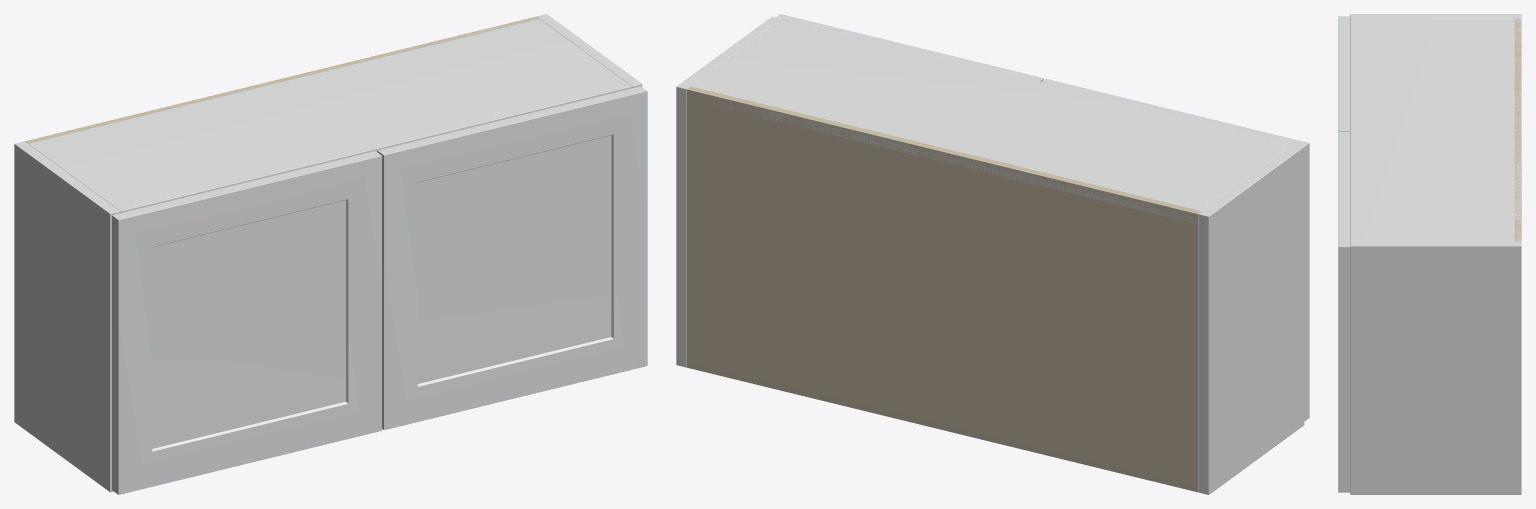
The model's file is PLY-WSS-W3618.glb.
3 views of the same model, side by side, from view 1: azimuth 30°, elevation 25°; view 2: azimuth 150°, elevation 25°; view 3: azimuth 270°, elevation 25° (orthographic). The views are drawn at different scales.
Visible parts, largest first — view 1: Shaker door, Shaker door.001, Carcass top, Carcass left, Carcass back, Carcass right; view 2: Carcass back, Carcass top, Carcass left, Carcass bottom, Carcass right, Shaker door, Shaker door.001; view 3: Carcass right, Carcass top, Shaker door.001, Carcass back, Shaker door, Carcass left.
Part boxes in pixels (x1,y1,x2,y2): Shaker door: (112,151,381,494); Shaker door.001: (377,86,647,429); Carcass top: (28,16,631,212); Carcass left: (14,141,120,492); Carcass back: (25,16,539,143); Carcass right: (537,14,642,88); Carcass back: (687,86,1201,492); Carcass top: (687,19,1293,224); Carcass left: (1198,144,1304,494); Carcass bottom: (687,357,1198,491); Carcass right: (676,16,781,367); Shaker door: (1041,79,1309,421); Shaker door.001: (776,14,1043,82); Carcass right: (1350,241,1521,494); Carcass top: (1350,18,1521,241); Shaker door.001: (1338,132,1350,492); Carcass back: (1514,18,1521,241); Shaker door: (1338,16,1350,131); Carcass left: (1350,14,1521,18).
Size of the model in its own units: 0.9144 by 0.4572 by 0.3048.
